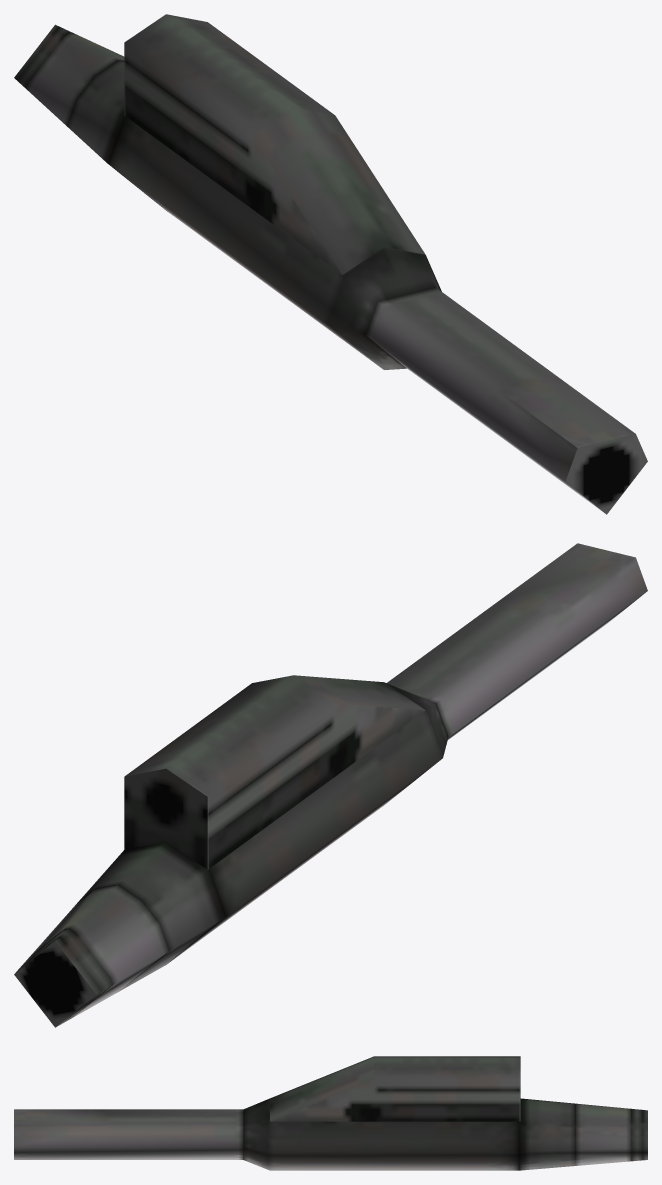
File: eqp_comp_weapon_barrel_s02_l1.fbx
3 renders of one model, top to bottom at view 1: azimuth 30°, elevation 25°; view 2: azimuth 150°, elevation 25°; view 3: azimuth 270°, elevation 25°, orthographic. The views are drawn at different scales.
Parts seen in each view (by area): view 1: mesh_node; view 2: mesh_node; view 3: mesh_node.
Part boxes in pixels (box(x1,y1,x2,y2)): mesh_node: box(14, 14, 647, 514); mesh_node: box(14, 543, 647, 1027); mesh_node: box(14, 1056, 647, 1170).
Size of the model in its own units: 0.0202 by 0.0322 by 0.1638.
